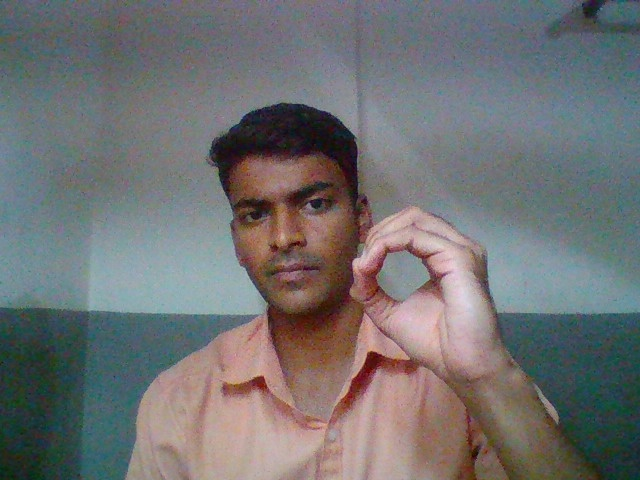O: (329, 200, 535, 397)
